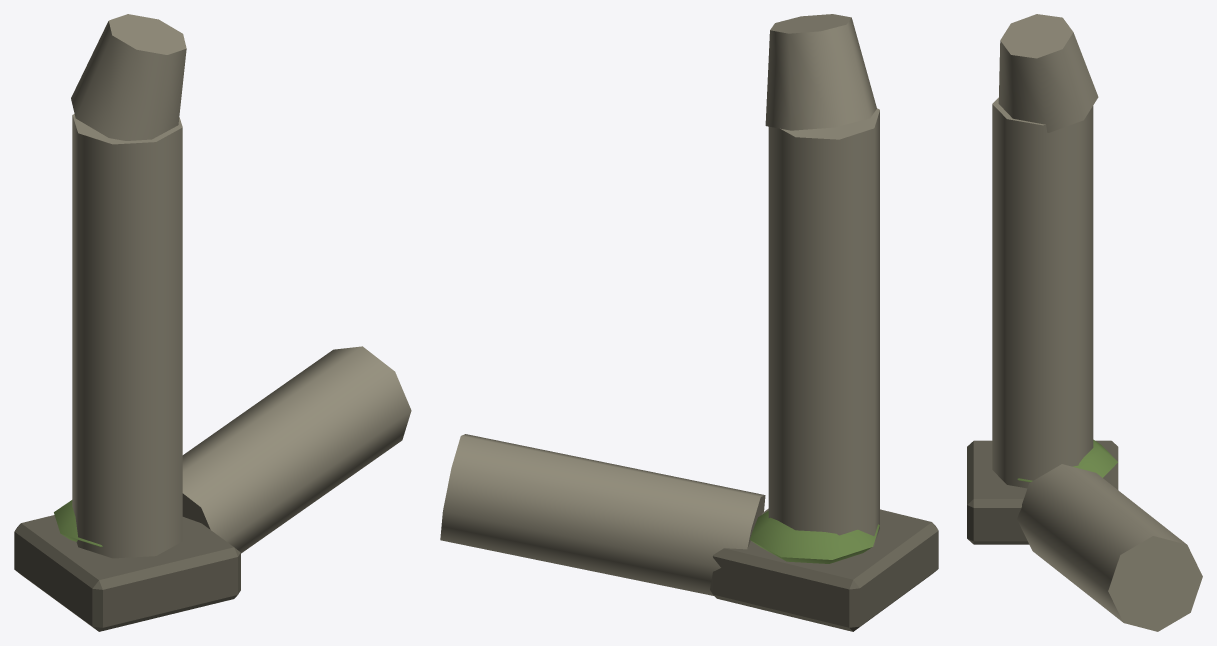
The model's file is ruins_pillar.glb.
3 views of the same model, side by side, from view 1: azimuth 30°, elevation 25°; view 2: azimuth 150°, elevation 25°; view 3: azimuth 270°, elevation 25° (orthographic). The views are drawn at different scales.
Visible parts, largest first — view 1: RuinsPillar; view 2: RuinsPillar; view 3: RuinsPillar.
Boxes of the visible parts, <box> form: RuinsPillar: <box>14,14,411,631</box>; RuinsPillar: <box>440,14,938,631</box>; RuinsPillar: <box>967,14,1202,631</box>.
Size of what is drawn, in the model's own units: 2.4 by 3.35 by 1.4.
